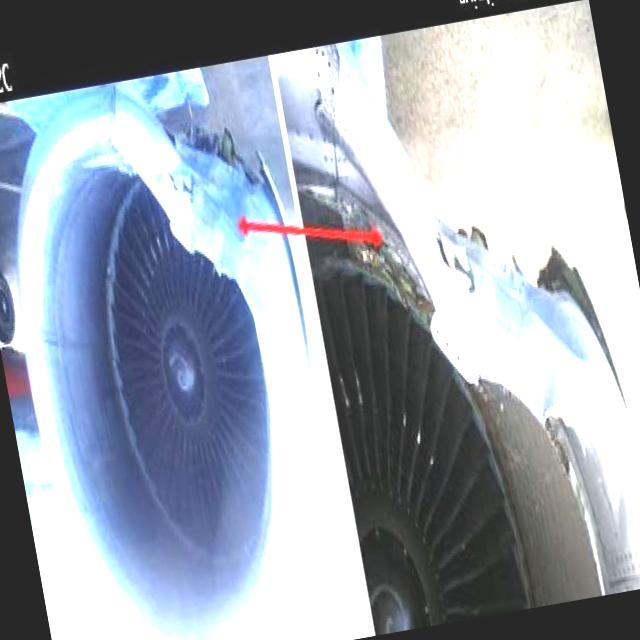dent: (442, 266, 493, 382), (512, 328, 570, 426), (594, 440, 640, 548)
